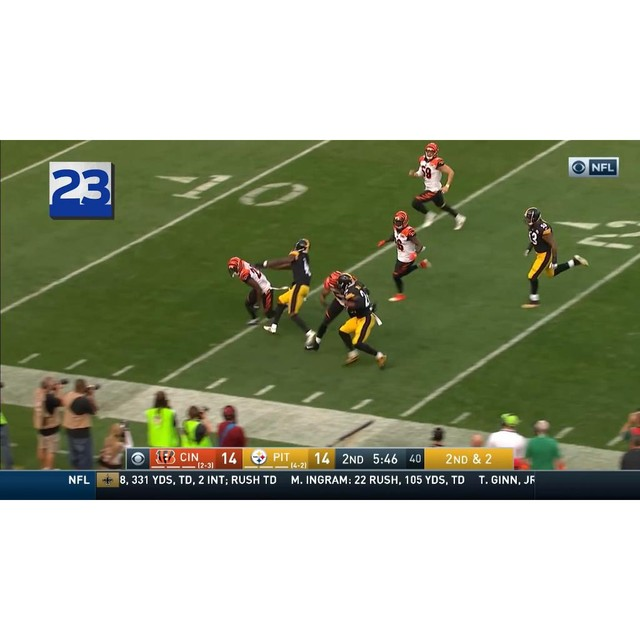american-football-player: (520, 206, 589, 306), (260, 238, 317, 344), (376, 210, 432, 301), (409, 144, 466, 231), (336, 275, 387, 369), (304, 271, 361, 353), (228, 256, 276, 327)
